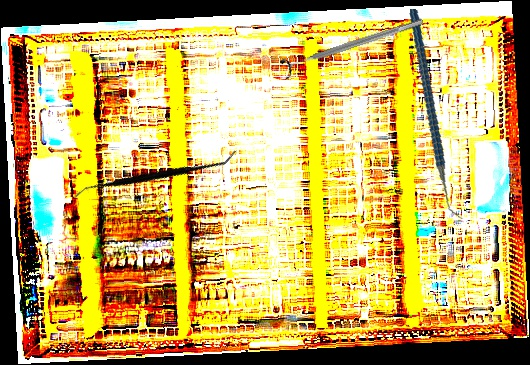Chopper: (378, 8, 496, 220)
Fixation Ring: (278, 10, 427, 81)
Spatula Surgical: (72, 93, 238, 256)
